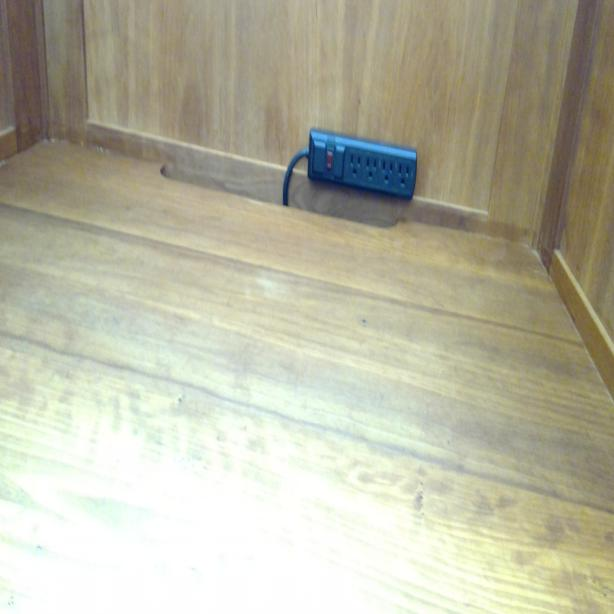typeb: (347, 152, 363, 181), (366, 156, 379, 184), (398, 162, 410, 188), (381, 160, 392, 184)
